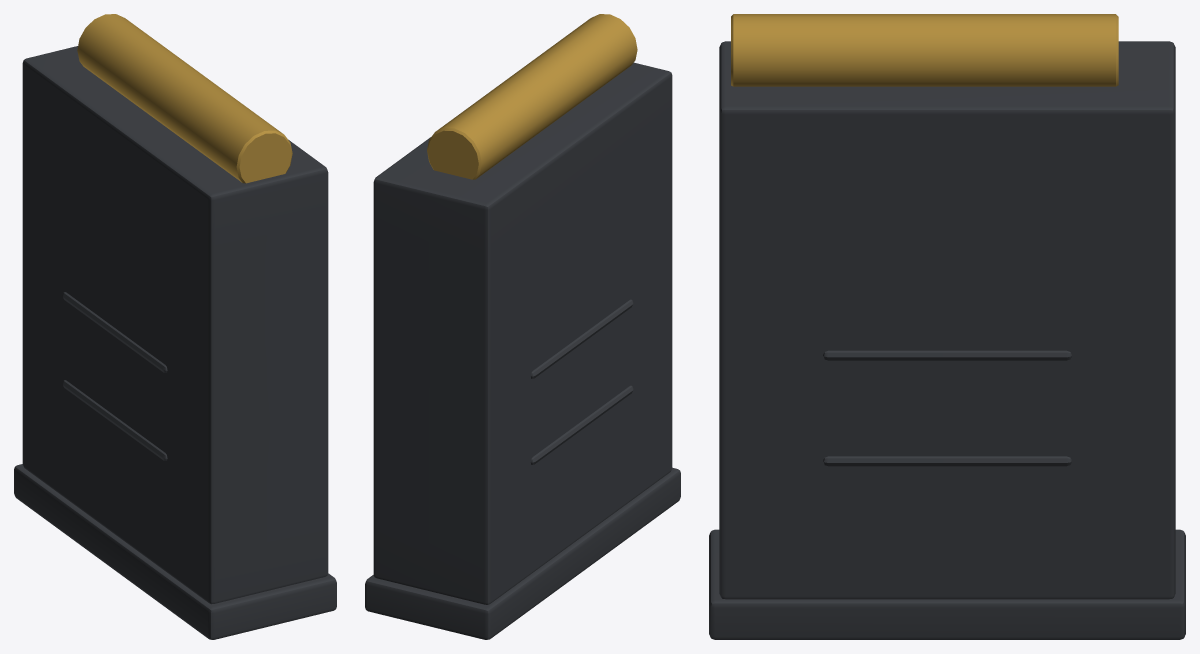
The model's file is mod_condor_extended_mag.glb.
3 views of the same model, side by side, from view 1: azimuth 30°, elevation 25°; view 2: azimuth 150°, elevation 25°; view 3: azimuth 270°, elevation 25° (orthographic). The views are drawn at different scales.
Visible parts, largest first — view 1: Magazine, MagazineRound; view 2: Magazine, MagazineRound; view 3: Magazine, MagazineRound.
Part boxes in pixels (x1,y1,x2,y2): Magazine: (14,46,336,639); MagazineRound: (77,14,292,183); Magazine: (365,62,680,639); MagazineRound: (427,14,637,179); Magazine: (709,41,1185,639); MagazineRound: (731,14,1118,86).
Bounding box in the file's own units: 0.0344 × 0.125 × 0.092.
